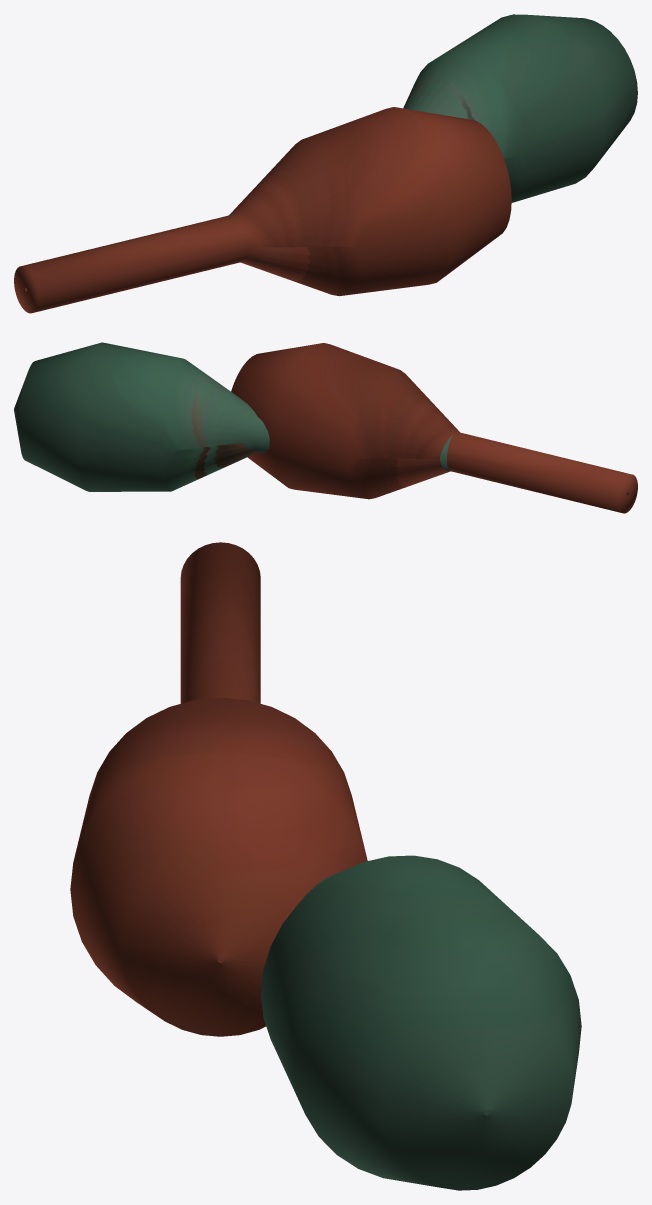
File: MU17_Maracas.glb
The picture shows the model from 3 angles, top to bottom: view 1: azimuth 30°, elevation 25°; view 2: azimuth 150°, elevation 25°; view 3: azimuth 270°, elevation 25°; orthographic projection. The views are drawn at different scales.
Visible parts, largest first — view 1: MU17_Maracas; view 2: MU17_Maracas; view 3: MU17_Maracas.
Boxes of the visible parts, x1=… form: MU17_Maracas: x1=14, y1=14, x2=637, y2=313; MU17_Maracas: x1=14, y1=342, x2=637, y2=513; MU17_Maracas: x1=70, y1=542, x2=581, y2=1190.
Bounding box in the file's own units: 0.3 × 0.0714 × 0.1214.
2 materials, 2 textured.
